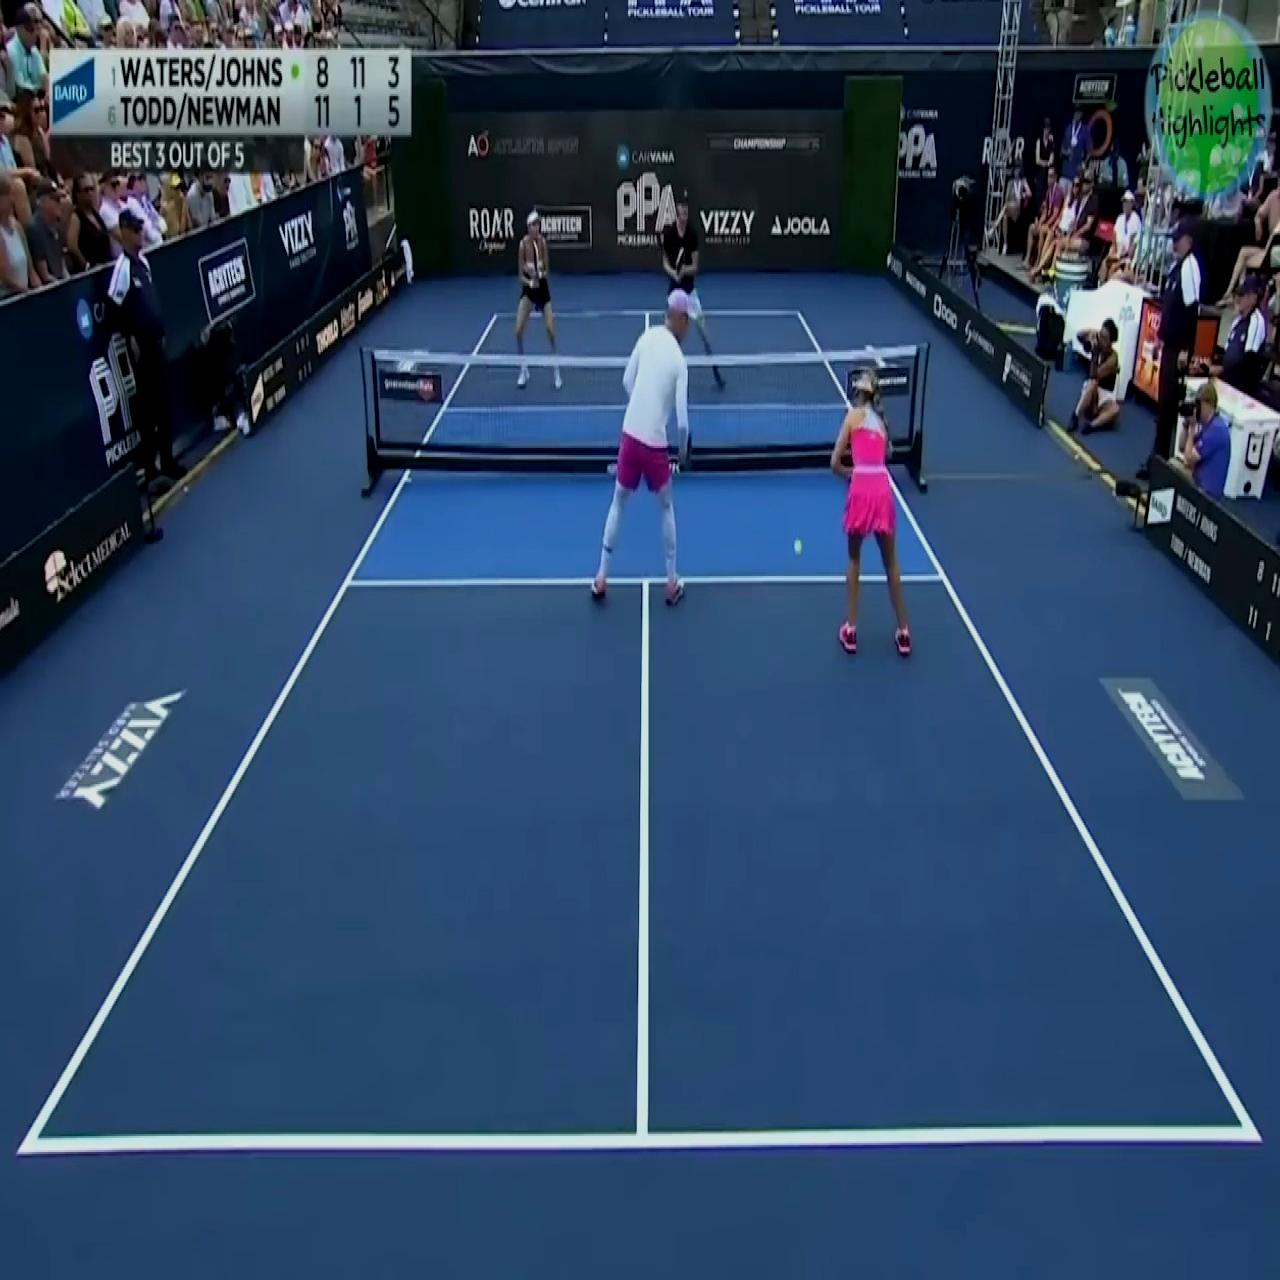Pickleball: (791, 533, 804, 558)
